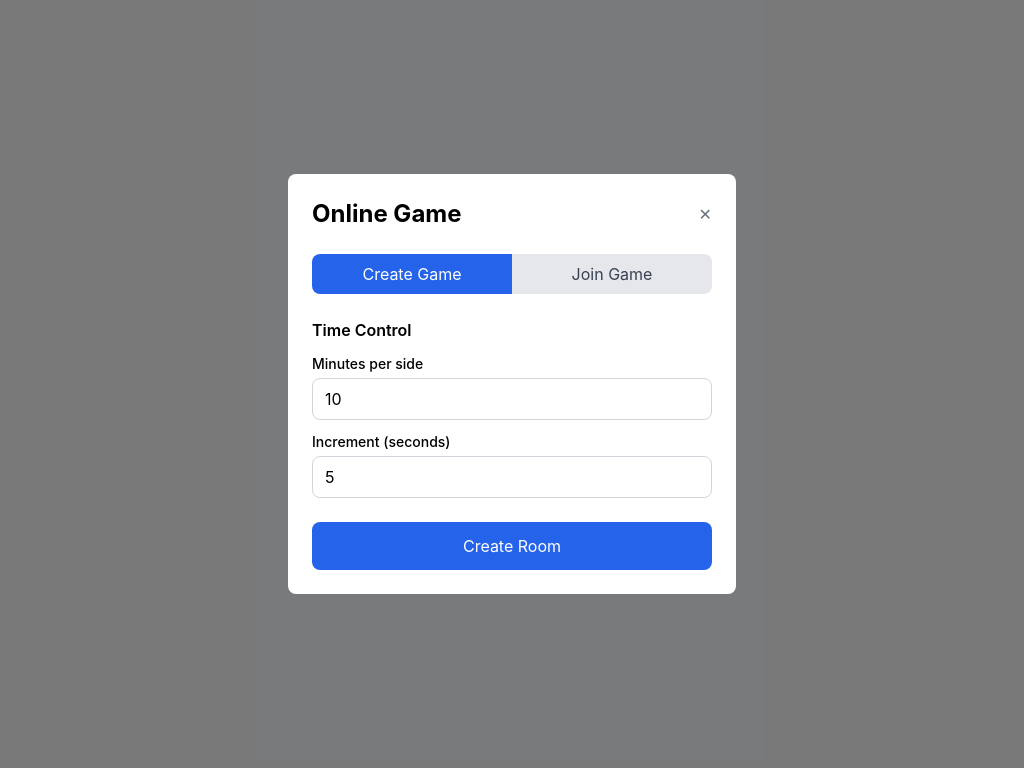
it: OnlineGameModal Component › should validate room code length
Switch to join mode
Click the button "Join Game" at (612, 274), box [512,254,712,294]
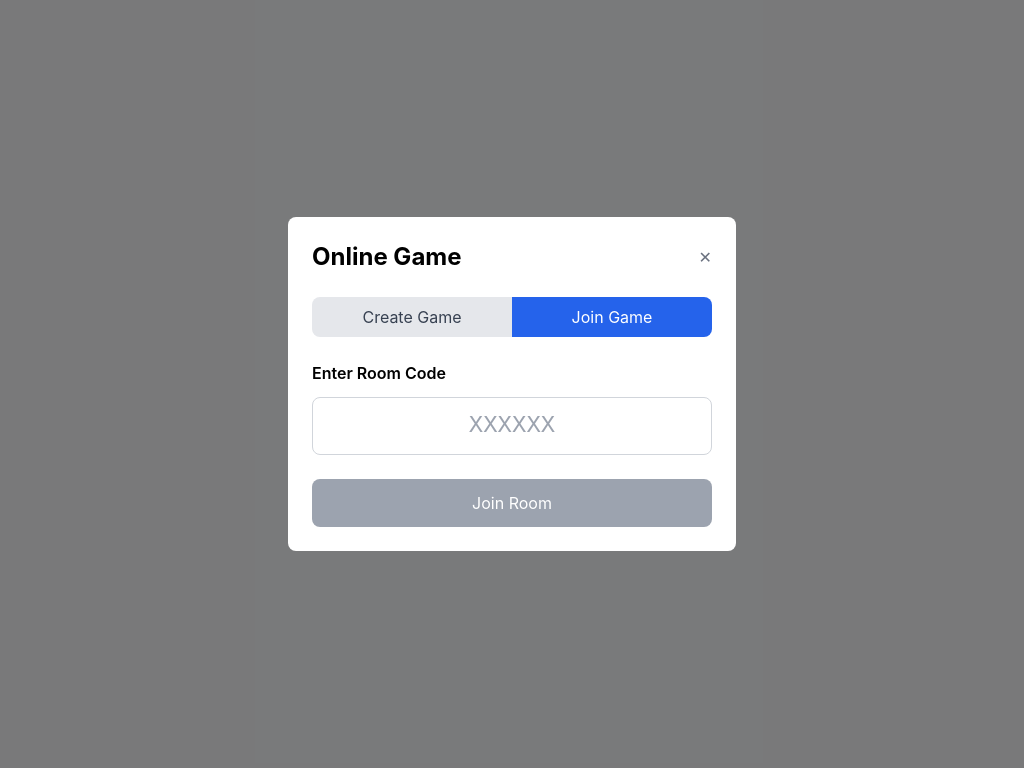
Button should be disabled with short code
Type "ABC" into the field with placeholder "XXXXXX" at (512, 426), box [312,397,712,455]
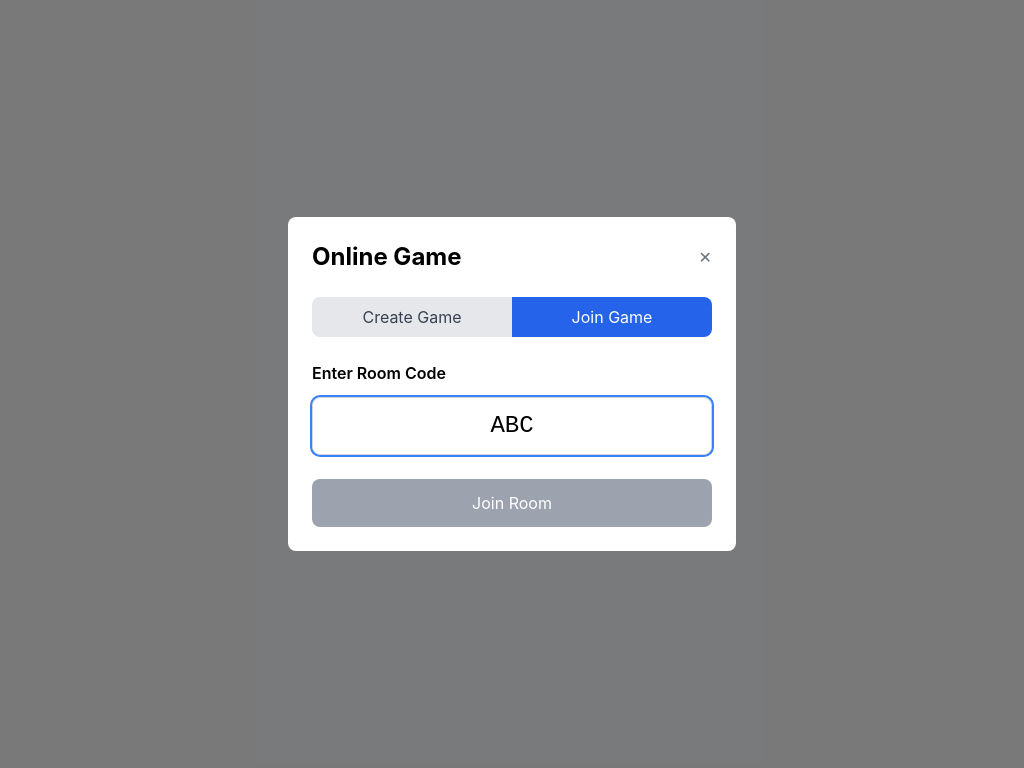
expect the button "Join Room" is disabled: met, box [312,479,712,527]
Button should be enabled with 6 character code
Type "123" into the field with placeholder "XXXXXX" at (512, 426), box [312,397,712,455]
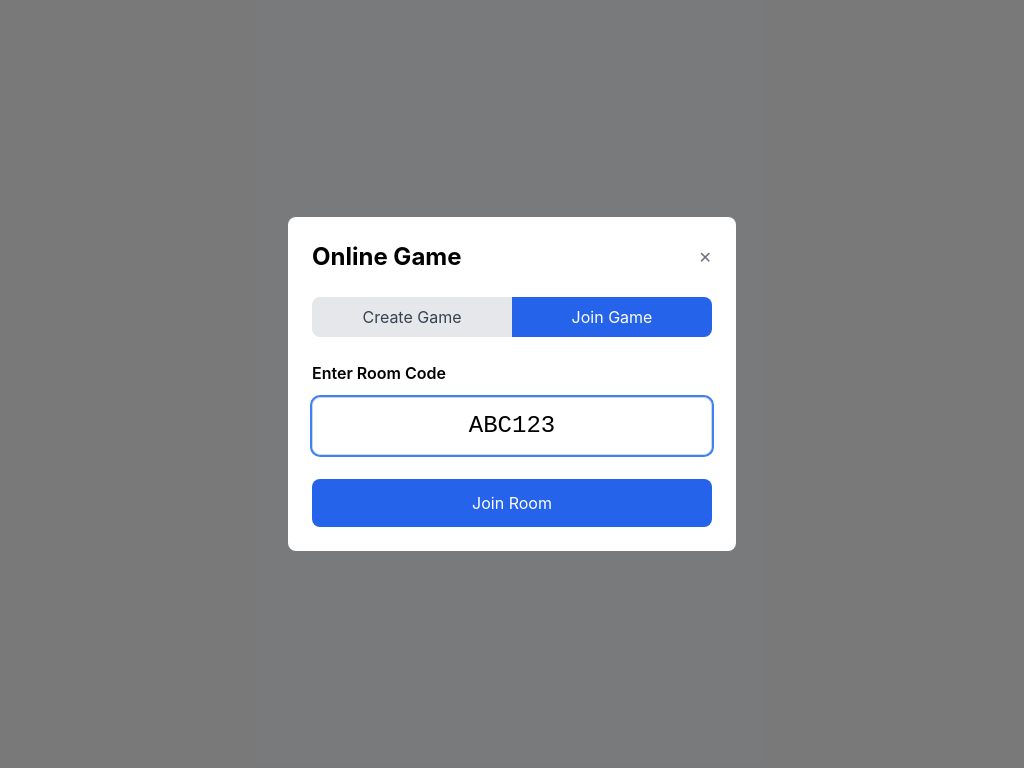
expect the button "Join Room" is enabled: met, box [312,479,712,527]
